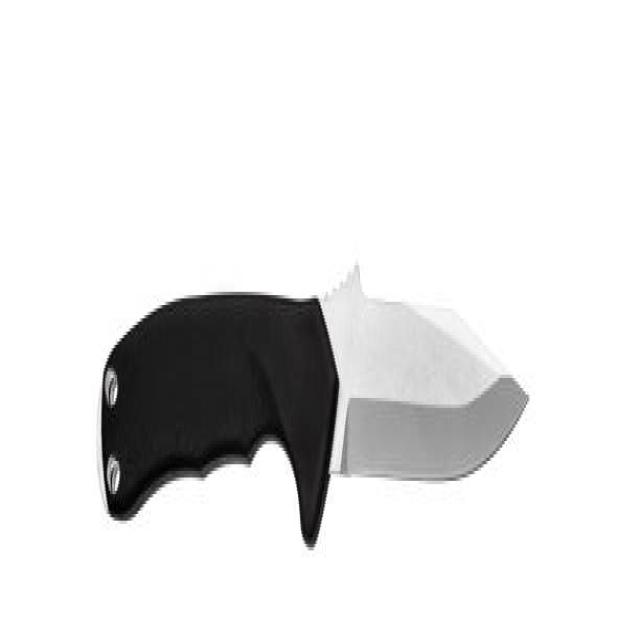knife: (91, 261, 535, 582)
